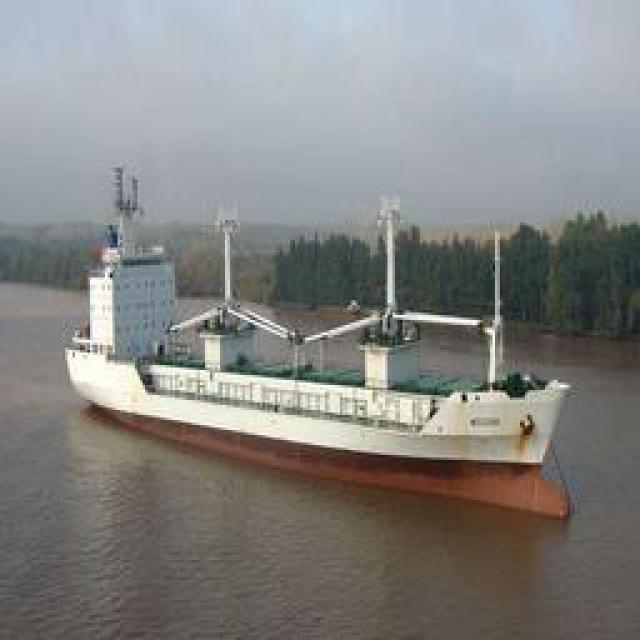Ship: (64, 190, 584, 513)
